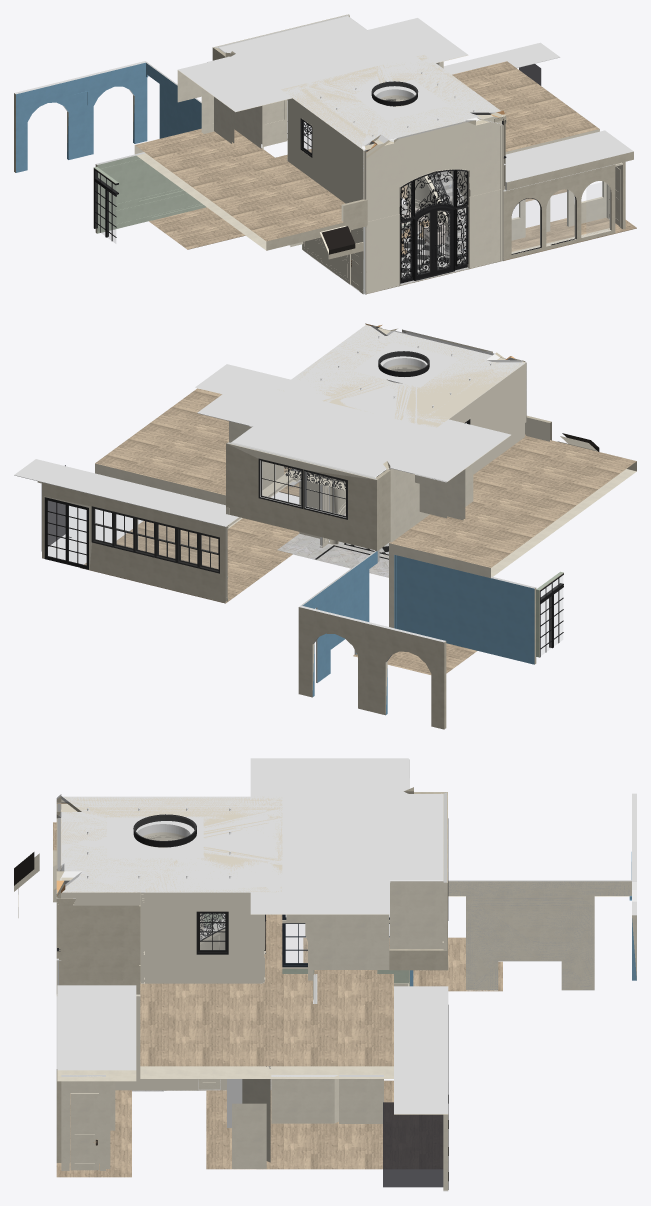
Rendered from entry-27cf1f7e6772.glb.
The picture shows the model from 3 angles, top to bottom: view 1: azimuth 30°, elevation 25°; view 2: azimuth 150°, elevation 25°; view 3: azimuth 270°, elevation 25°; orthographic projection. The views are drawn at different scales.
Visible parts, largest first — view 1: entry-look-2575515a05775d9e, entry-look-9d91b47435c6fb33, entry-9d91b47435c6fb33, entry-4edf3a9420c06709, entry-look-969b861f9850351e, entry-e8793759323e04f0, entry-9ca48b730e5de4b2, entry-look-b19b106fc304963c, entry-746250f96522f643, entry-look-dbd60ee5c3733ed6, entry-look-c9e78b9ec1bb39cd, entry-785988ccf932ddd5 (+34 smaller); view 2: entry-look-2575515a05775d9e, entry-look-9d91b47435c6fb33, entry-look-b19b106fc304963c, entry-9d91b47435c6fb33, entry-look-969b861f9850351e, entry-look-245f595ae2832e16, entry-look-3b0077416469e01b, entry-look-bfb9fa537cd11d1d, entry-e8793759323e04f0, entry-look-9a0e9ee9b2a451d7, entry-746250f96522f643, entry-look-3e6709f91b43c3bf (+19 smaller); view 3: entry-look-2575515a05775d9e, entry-look-9d91b47435c6fb33, entry-9d91b47435c6fb33, entry-look-3e6709f91b43c3bf, entry-look-3b0077416469e01b, entry-c51ecd664a3b22a3, entry-look-dbd60ee5c3733ed6, entry-e8793759323e04f0, entry-look-9a0e9ee9b2a451d7, entry-62353aa10fc57f23, entry-look-cbd4bf73d9724a66, entry-look-55ff1dfd7b659ec1 (+22 smaller).
Boxes of the visible parts, x1=… form: entry-look-2575515a05775d9e: x1=134, y1=61, x2=599, y2=250; entry-look-9d91b47435c6fb33: x1=178, y1=16, x2=468, y2=112; entry-9d91b47435c6fb33: x1=282, y1=54, x2=500, y2=149; entry-4edf3a9420c06709: x1=365, y1=120, x2=503, y2=221; entry-look-969b861f9850351e: x1=14, y1=61, x2=147, y2=172; entry-e8793759323e04f0: x1=281, y1=55, x2=499, y2=149; entry-9ca48b730e5de4b2: x1=365, y1=189, x2=503, y2=293; entry-look-b19b106fc304963c: x1=95, y1=152, x2=202, y2=233; entry-746250f96522f643: x1=287, y1=98, x2=361, y2=203; entry-look-dbd60ee5c3733ed6: x1=505, y1=130, x2=633, y2=190; entry-look-c9e78b9ec1bb39cd: x1=503, y1=164, x2=615, y2=260; entry-785988ccf932ddd5: x1=366, y1=118, x2=503, y2=220; entry-look-2575515a05775d9e: x1=95, y1=388, x2=636, y2=578; entry-look-9d91b47435c6fb33: x1=197, y1=371, x2=510, y2=481; entry-look-b19b106fc304963c: x1=397, y1=555, x2=536, y2=664; entry-9d91b47435c6fb33: x1=277, y1=325, x2=525, y2=428; entry-look-969b861f9850351e: x1=298, y1=605, x2=446, y2=729; entry-look-245f595ae2832e16: x1=226, y1=442, x2=377, y2=551; entry-look-3b0077416469e01b: x1=80, y1=518, x2=476, y2=674; entry-look-bfb9fa537cd11d1d: x1=42, y1=482, x2=227, y2=602; entry-e8793759323e04f0: x1=279, y1=325, x2=525, y2=427; entry-look-9a0e9ee9b2a451d7: x1=14, y1=459, x2=238, y2=526; entry-746250f96522f643: x1=449, y1=364, x2=524, y2=474; entry-look-3e6709f91b43c3bf: x1=302, y1=551, x2=377, y2=682; entry-look-2575515a05775d9e: x1=53, y1=822, x2=393, y2=1078; entry-look-9d91b47435c6fb33: x1=250, y1=758, x2=442, y2=914; entry-9d91b47435c6fb33: x1=61, y1=796, x2=282, y2=892; entry-look-3e6709f91b43c3bf: x1=448, y1=880, x2=631, y2=989; entry-look-3b0077416469e01b: x1=206, y1=937, x2=502, y2=1169; entry-c51ecd664a3b22a3: x1=145, y1=892, x2=264, y2=983; entry-look-dbd60ee5c3733ed6: x1=57, y1=985, x2=136, y2=1081; entry-e8793759323e04f0: x1=58, y1=794, x2=282, y2=892; entry-look-9a0e9ee9b2a451d7: x1=394, y1=986, x2=448, y2=1114; entry-62353aa10fc57f23: x1=71, y1=892, x2=140, y2=996; entry-look-cbd4bf73d9724a66: x1=383, y1=1102, x2=443, y2=1187; entry-look-55ff1dfd7b659ec1: x1=448, y1=880, x2=631, y2=990.
Size of the model in its own units: 21.07 by 7.02 by 18.
Materials: 64 (11 with a texture image).
